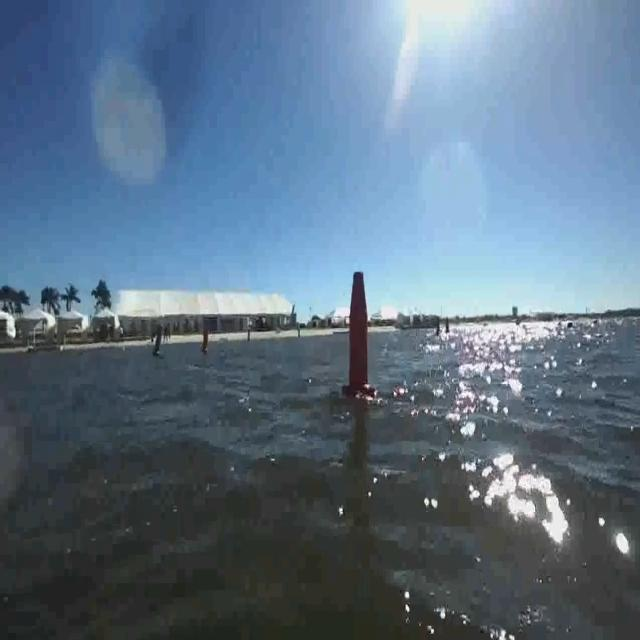green-column-buoy: (152, 326, 165, 358)
red-column-buoy: (343, 266, 375, 400), (201, 326, 212, 356)
